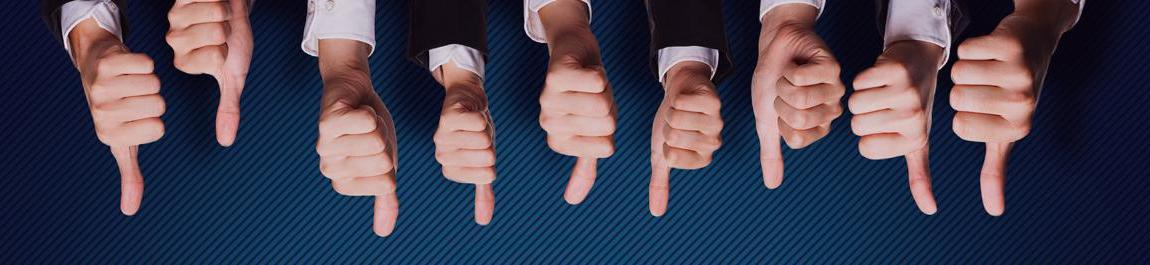thumbsdown: (949, 33, 1034, 217), (848, 63, 938, 217), (89, 55, 166, 217), (756, 53, 845, 191), (166, 0, 244, 148), (538, 64, 617, 206), (316, 106, 399, 237), (649, 88, 725, 217), (430, 110, 498, 226)
